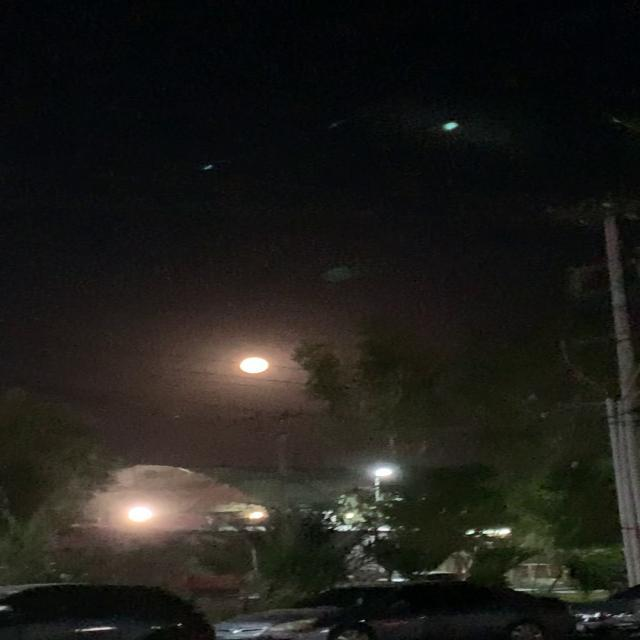moon: (233, 348, 286, 373)
